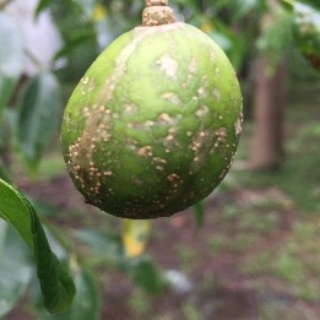coc: (58, 18, 242, 220)
